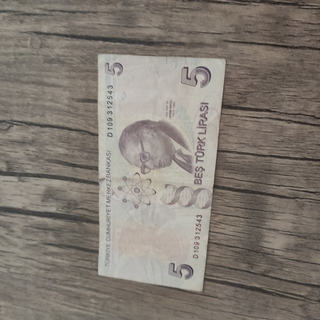5TLBack: (96, 52, 227, 295)
